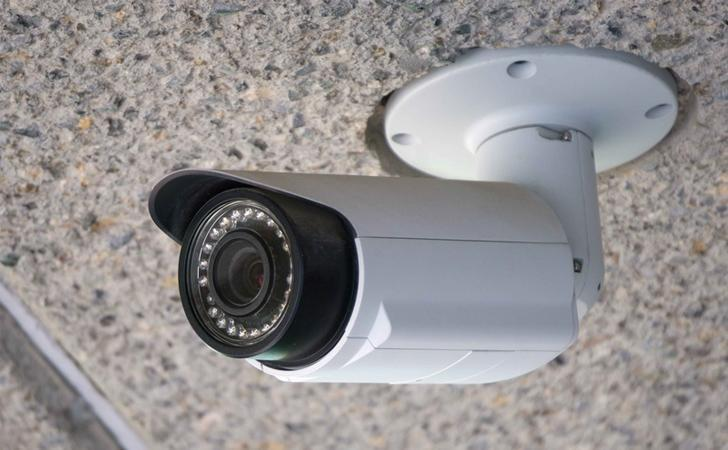tutu: (150, 162, 588, 404)
